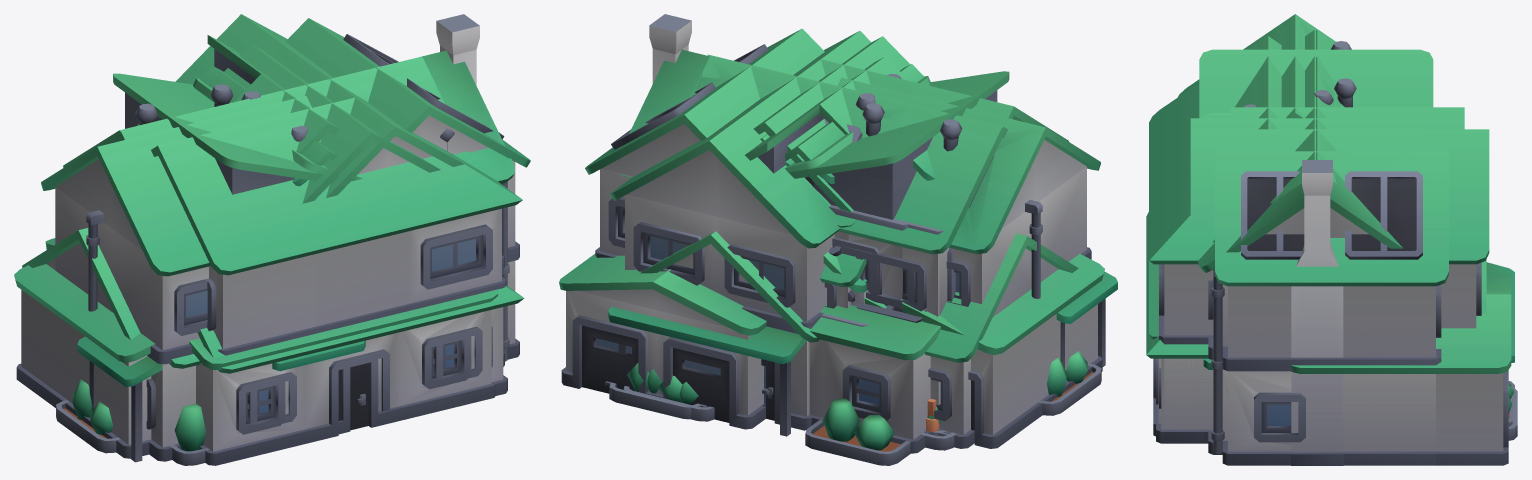
The model's file is k-suburban.glb.
3 renders of one model, left to right at view 1: azimuth 30°, elevation 25°; view 2: azimuth 150°, elevation 25°; view 3: azimuth 270°, elevation 25°, orthographic. The views are drawn at different scales.
Visible parts, largest first — view 1: building-type-f, building-type-t, building-type-n, building-type-d, building-type-b, building-type-m, building-type-k, building-type-u, building-type-s, building-type-r, building-type-e, building-type-l; view 2: building-type-n, building-type-f, building-type-d, building-type-t, building-type-b, building-type-e, building-type-k, building-type-m, building-type-r, building-type-s, building-type-u, building-type-o (+4 smaller); view 3: building-type-b, building-type-f, building-type-d, building-type-n, building-type-k, building-type-u, building-type-m, building-type-r, building-type-t, building-type-s, building-type-o, building-type-e.
Part boxes in pixels (left/top/right/bottom): building-type-f: left=137, top=14, right=522, bottom=465; building-type-t: left=45, top=57, right=498, bottom=465; building-type-n: left=41, top=96, right=365, bottom=462; building-type-d: left=14, top=14, right=514, bottom=458; building-type-b: left=22, top=18, right=530, bottom=453; building-type-m: left=197, top=285, right=524, bottom=434; building-type-k: left=113, top=73, right=357, bottom=194; building-type-u: left=263, top=38, right=495, bottom=197; building-type-s: left=224, top=44, right=440, bottom=203; building-type-r: left=207, top=35, right=339, bottom=153; building-type-e: left=63, top=56, right=421, bottom=167; building-type-l: left=193, top=78, right=362, bottom=179; building-type-n: left=559, top=77, right=1117, bottom=446; building-type-f: left=608, top=59, right=1068, bottom=436; building-type-d: left=621, top=14, right=1104, bottom=448; building-type-t: left=623, top=54, right=1007, bottom=465; building-type-b: left=585, top=28, right=1101, bottom=448; building-type-e: left=785, top=110, right=1007, bottom=316; building-type-k: left=788, top=71, right=1009, bottom=290; building-type-m: left=609, top=231, right=819, bottom=419; building-type-r: left=745, top=56, right=908, bottom=326; building-type-s: left=753, top=36, right=909, bottom=211; building-type-u: left=720, top=31, right=956, bottom=450; building-type-o: left=690, top=56, right=914, bottom=220; building-type-b: left=1211, top=151, right=1448, bottom=465; building-type-f: left=1149, top=36, right=1514, bottom=443; building-type-d: left=1198, top=47, right=1402, bottom=465; building-type-n: left=1178, top=14, right=1511, bottom=465; building-type-k: left=1199, top=49, right=1433, bottom=118; building-type-u: left=1190, top=129, right=1424, bottom=443; building-type-m: left=1146, top=212, right=1517, bottom=443; building-type-r: left=1230, top=90, right=1464, bottom=129; building-type-t: left=1149, top=30, right=1514, bottom=436; building-type-s: left=1190, top=104, right=1424, bottom=369; building-type-o: left=1317, top=72, right=1357, bottom=198; building-type-e: left=1316, top=30, right=1335, bottom=159.
Size of the model in its own units: 1.83 by 1.24 by 1.43.
1 material, 1 textured.
